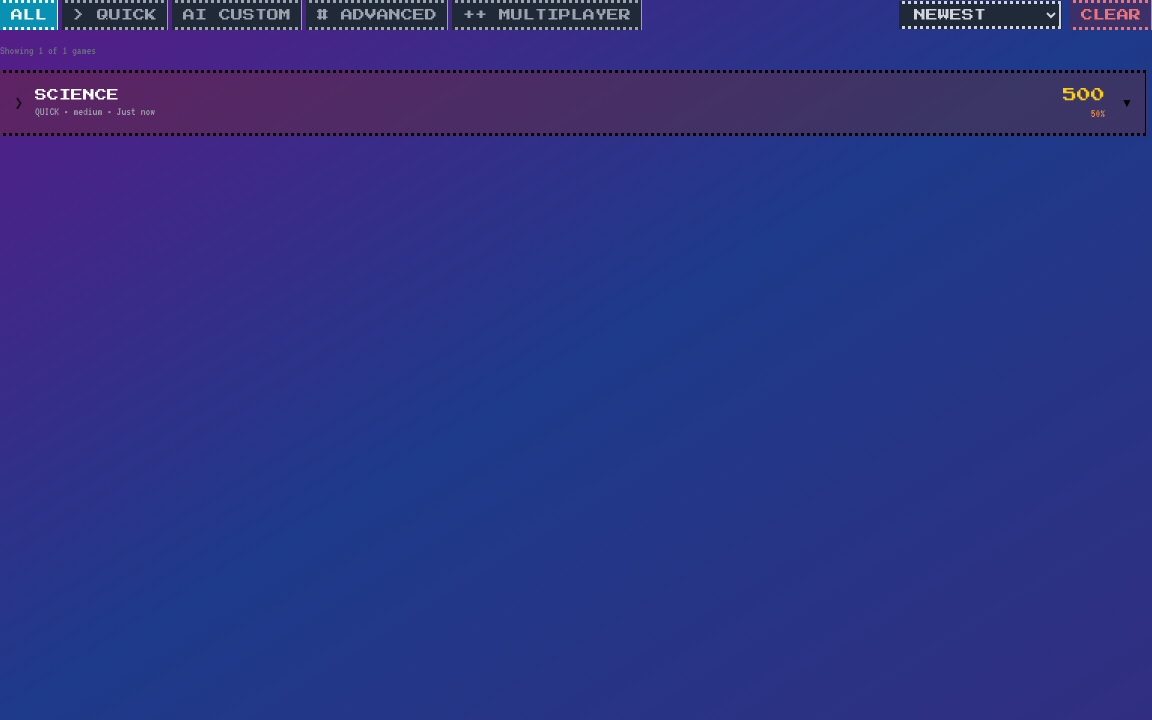
Test: GameHistoryList › shows clear confirmation dialog
Click the button with aria-label "Clear all history": (1111, 15) [1070,0,1151,30]
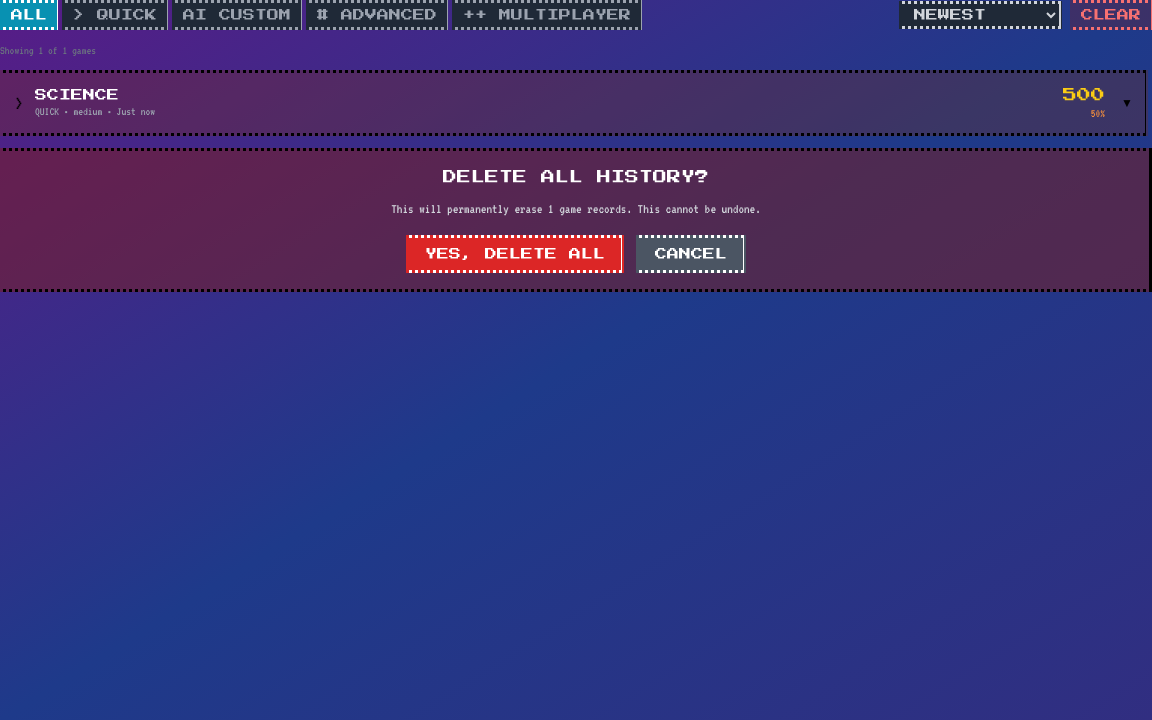
expect the text "DELETE ALL HISTORY?" is shown: met, box [443,170,709,184]
